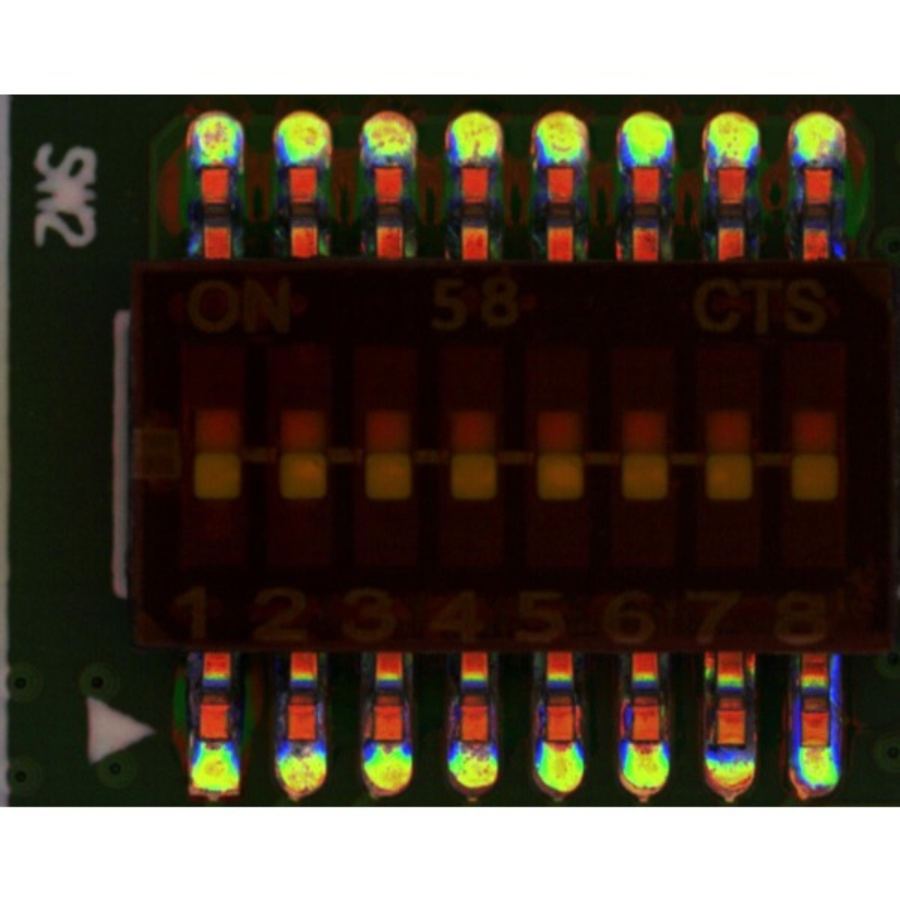Bad_podu: (632, 730, 657, 753), (804, 734, 829, 756), (548, 730, 573, 751)
